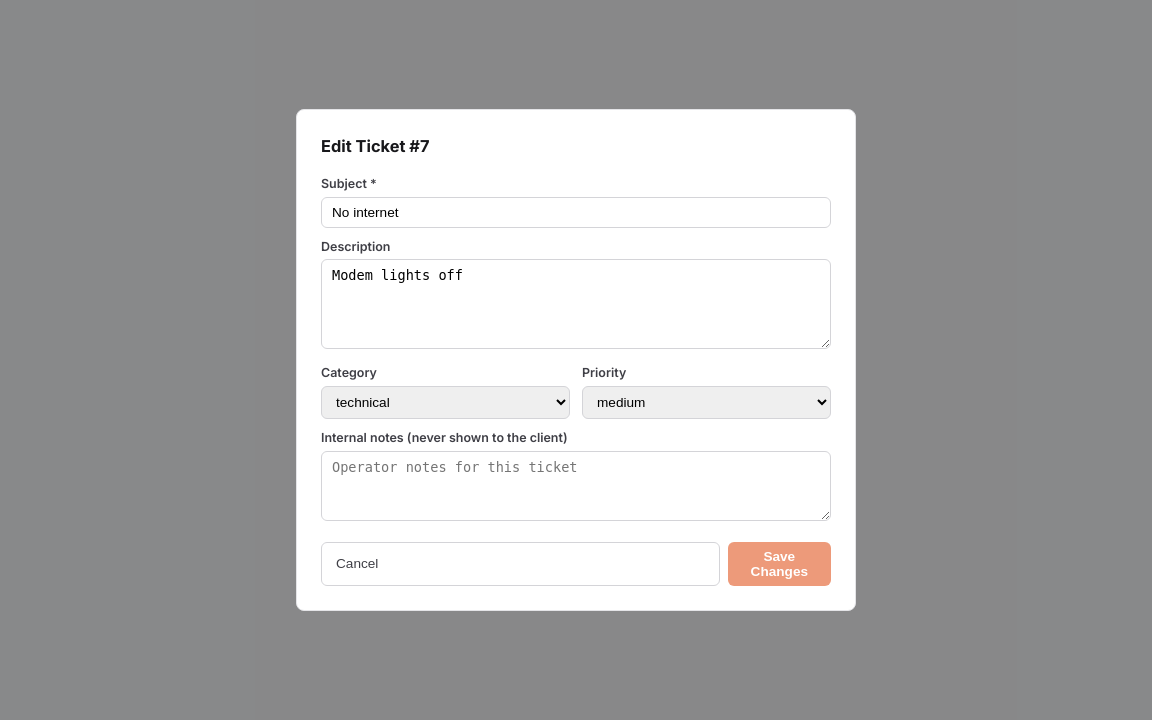
EditTicketModal › disables Save until something changes, and blocks an empty subject
expect the button "Save Changes" is disabled: met, box [728,542,831,586]
Clear the field showing "No internet". click: (576, 212)
box: [321,197,831,228]
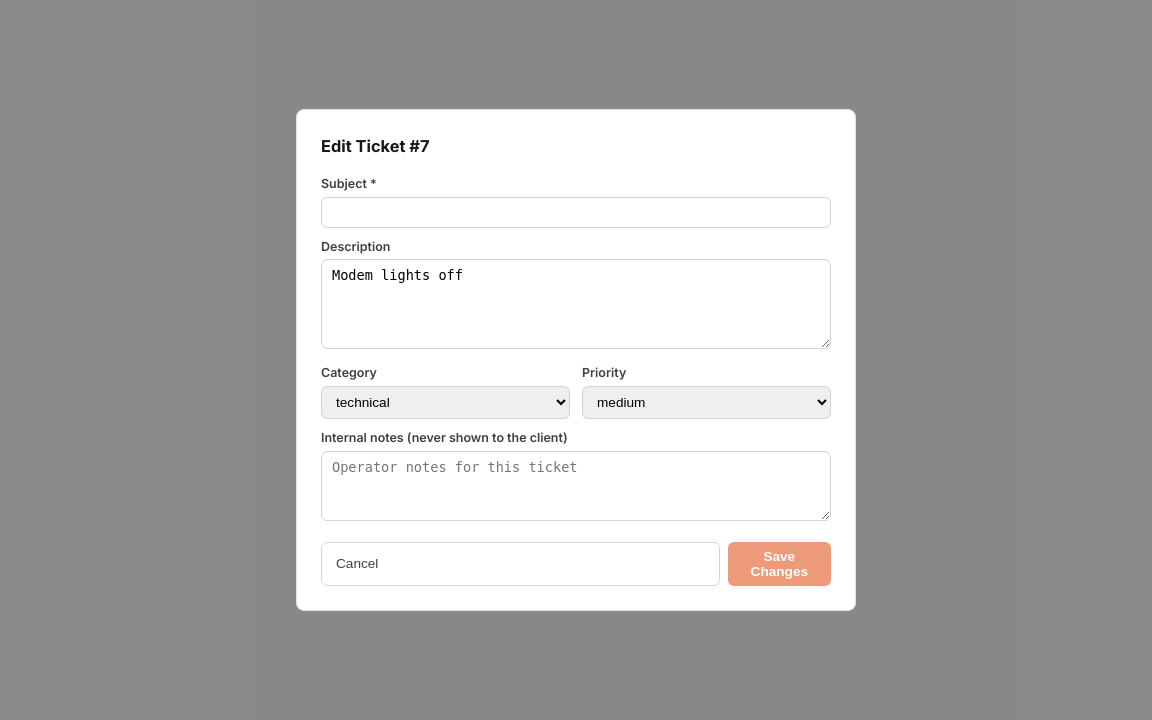
expect the button "Save Changes" is disabled: met, box [728,542,831,586]
Type "No internet — fiber cut" into the field showing "No internet". click: (576, 212)
box: [321,197,831,228]
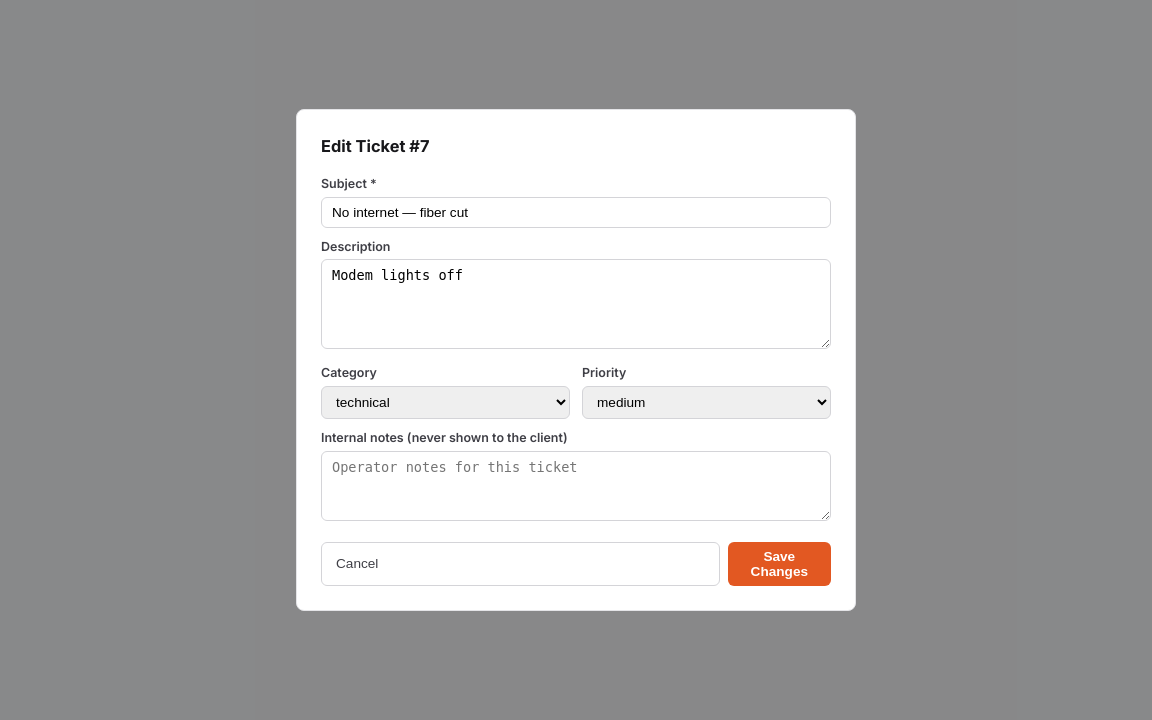
expect the button "Save Changes" is enabled: met, box [728,542,831,586]
